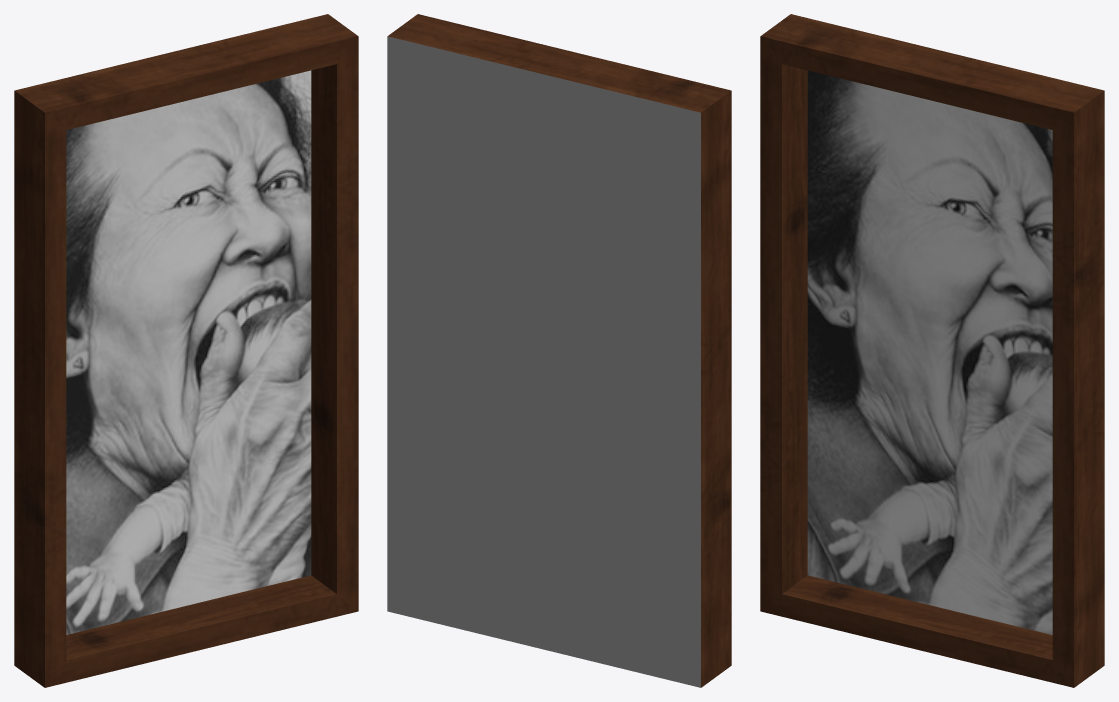
File: EN_P_Frame2.fbx
3 views of the same model, side by side, from view 1: azimuth 30°, elevation 25°; view 2: azimuth 150°, elevation 25°; view 3: azimuth 330°, elevation 25° (orthographic).
Visible parts, largest first — view 1: frame2; view 2: frame2; view 3: frame2.
Boxes of the visible parts, <box> form: frame2: <box>14,14,358,687</box>; frame2: <box>387,14,731,687</box>; frame2: <box>760,14,1104,687</box>.
Bounding box in the file's own units: 31.05 × 54.41 × 5.21.
